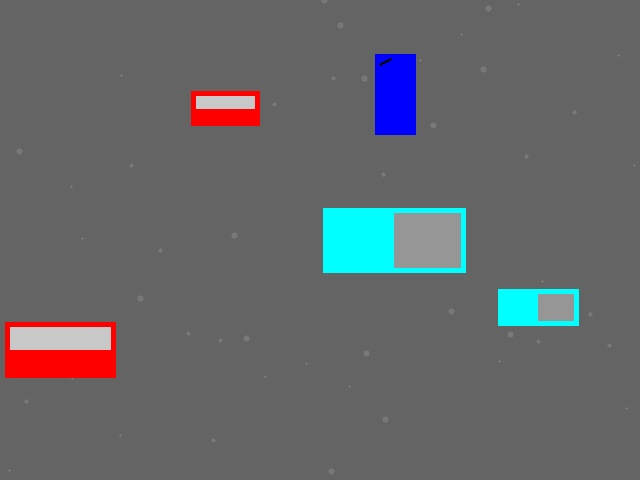car: (5, 322, 115, 377), (191, 91, 259, 125)
motorcycle: (375, 54, 415, 134)
truck: (323, 208, 465, 272), (498, 289, 578, 325)
